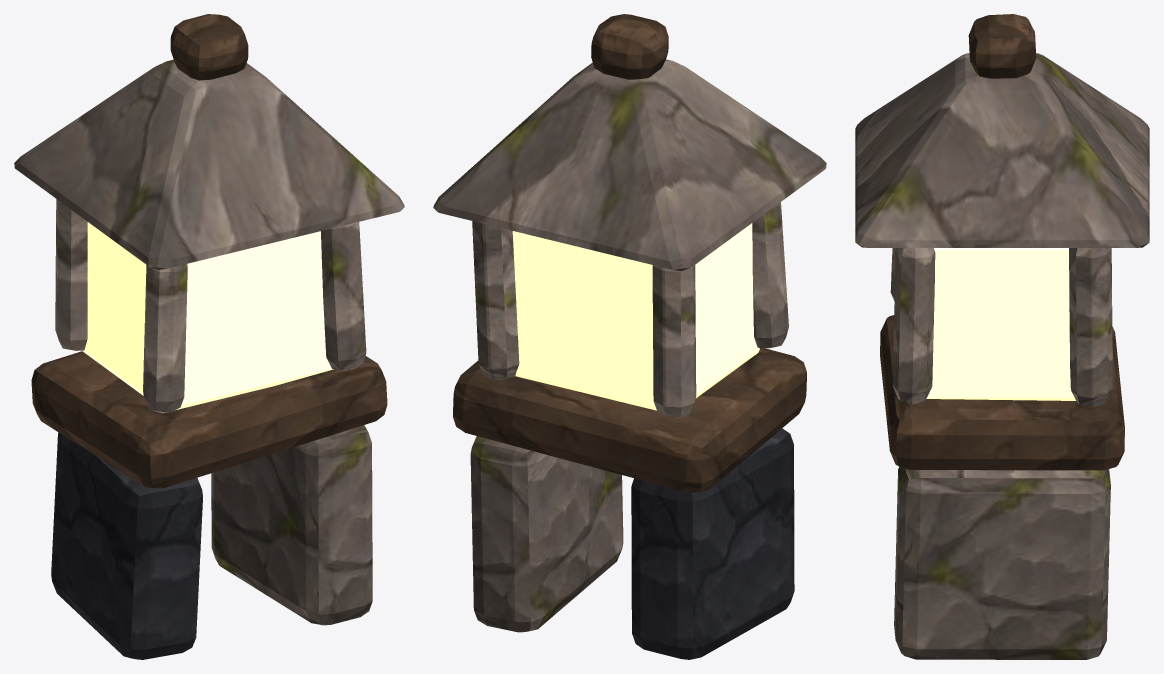
File: stone_lantern.glb
3 renders of one model, left to right at view 1: azimuth 30°, elevation 25°; view 2: azimuth 150°, elevation 25°; view 3: azimuth 270°, elevation 25°, orthographic.
Parts seen in each view (by area): view 1: model; view 2: model; view 3: model.
Boxes of the visible parts, x1,y1,x2,y2 form: model: [14, 14, 404, 659]; model: [433, 14, 826, 659]; model: [855, 14, 1149, 659].
Bounding box in the file's own units: 0.441 × 0.962 × 0.4333.
5 materials, 4 textured.
